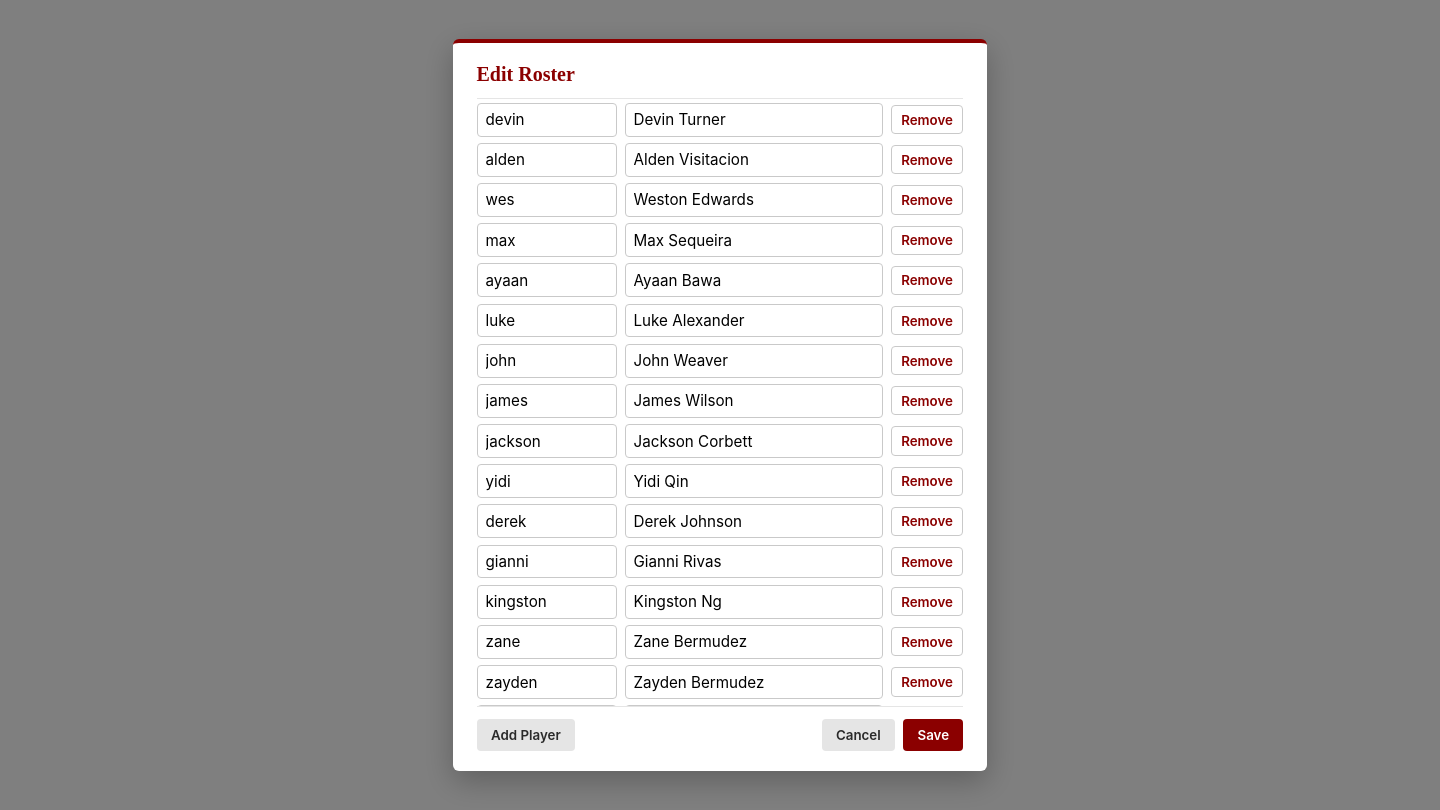
Test: RosterEditor › rejects save when an id is blank
The image size is (1440, 810).
Clear the field named "player id" at (546, 120), box [476,103,616,137]
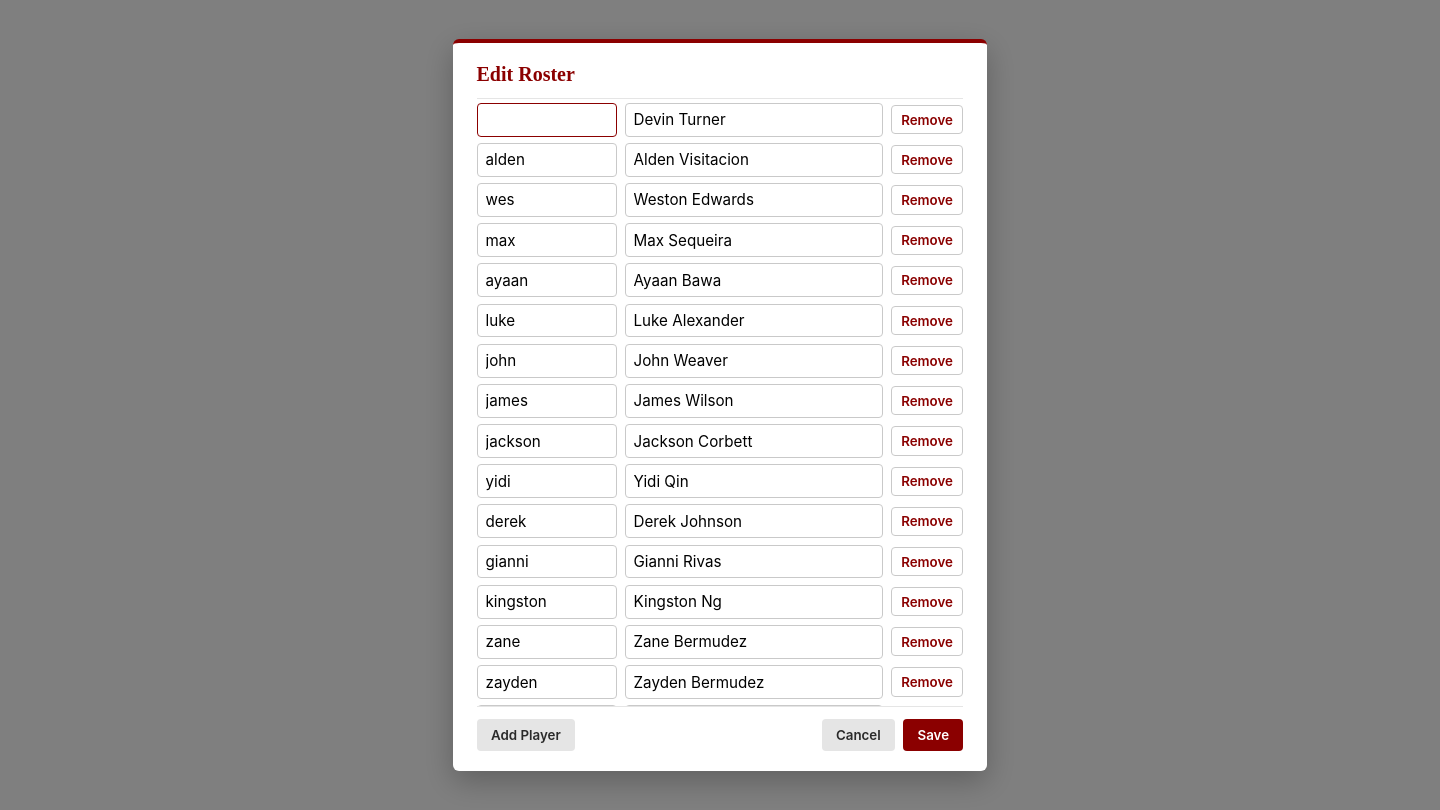
Click the button "Save".
click(933, 735)  # box [903,719,963,751]
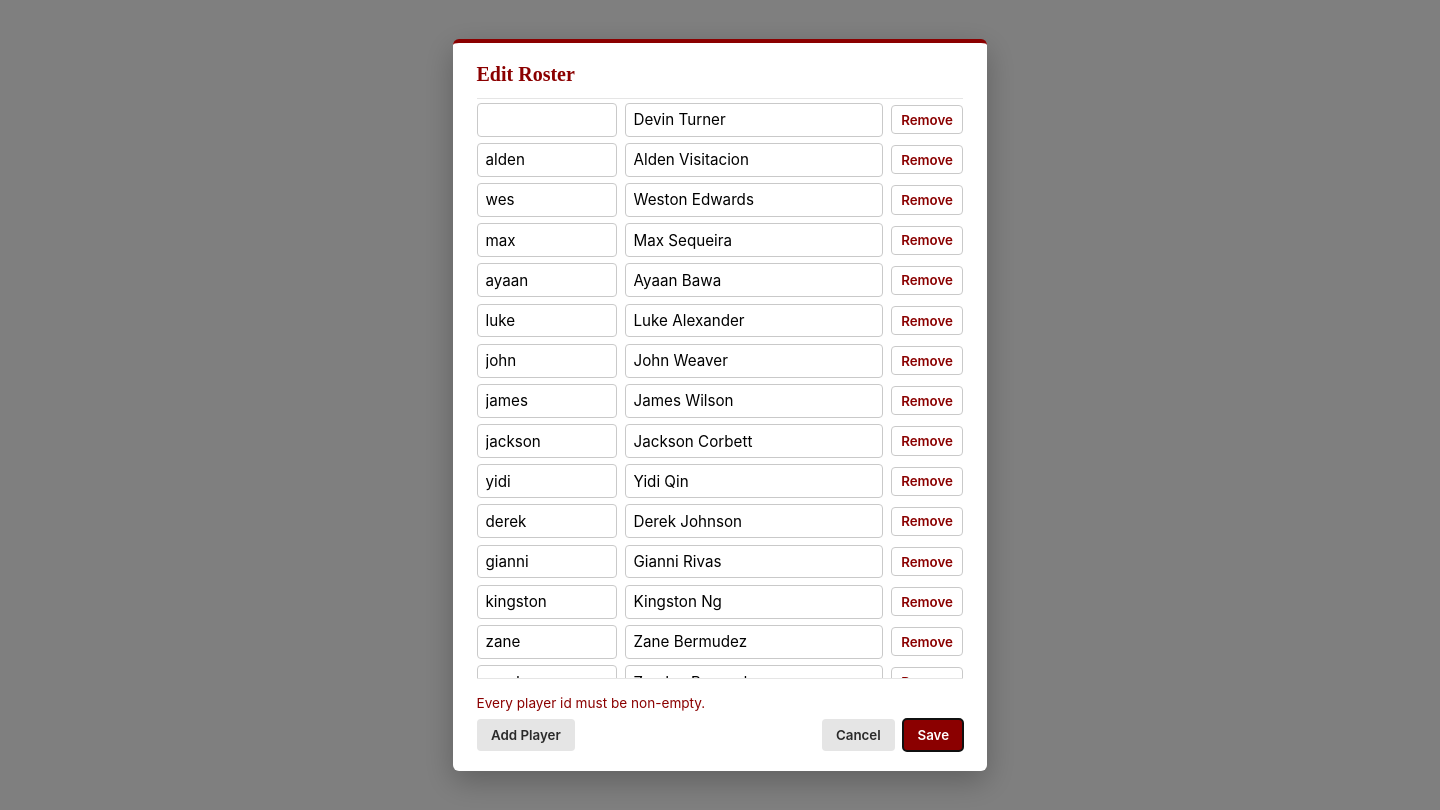
Now the text "Every player id must be non-empty." is shown, box [476,695,705,711]
